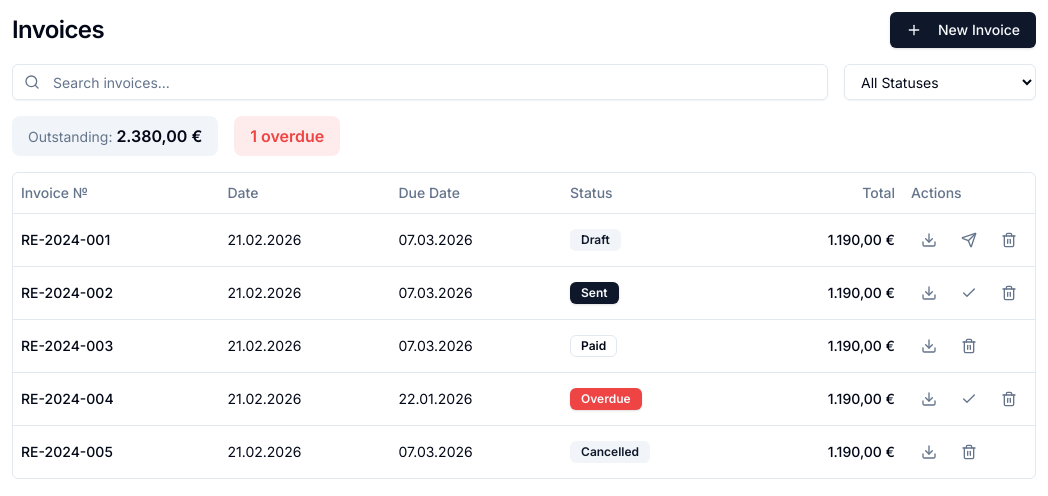
Test case: InvoiceList › filtering › filters by status
Filter to show only paid invoices
Select "Paid" in the dropdown named "status": [940, 82] box [844,64,1036,100]
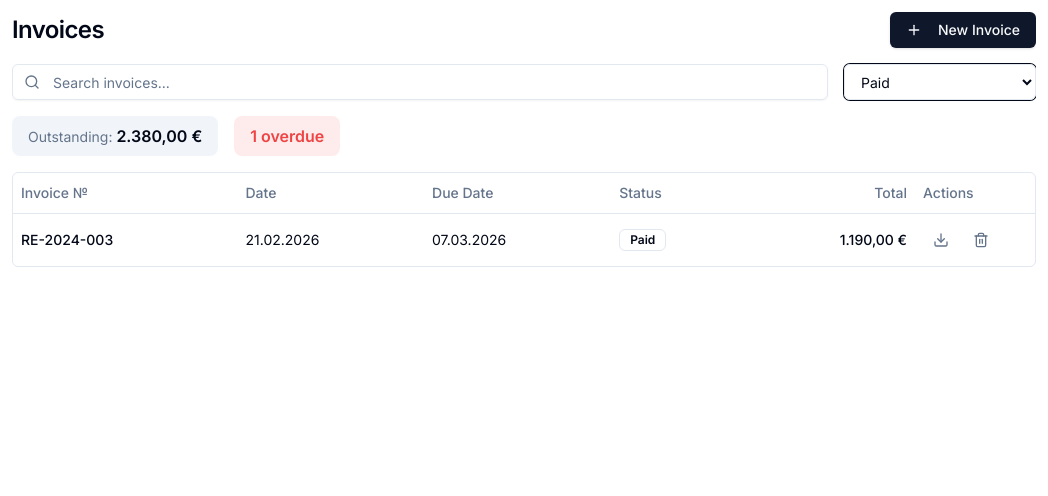
Expected: the number of rows is 2, [13,173,1035,213]; [13,213,1035,266]
